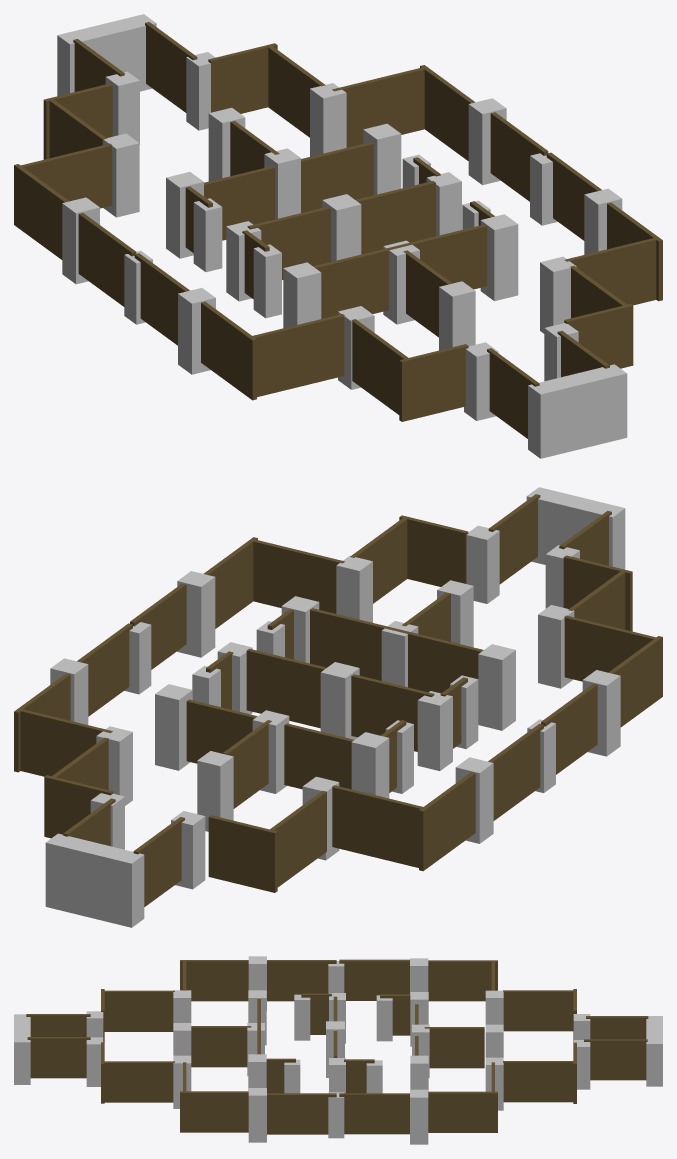
The model's file is levelcollisions.obj.
3 renders of one model, top to bottom at view 1: azimuth 30°, elevation 25°; view 2: azimuth 150°, elevation 25°; view 3: azimuth 270°, elevation 25°, orthographic. The views are drawn at different scales.
Parts seen in each view (by area): view 1: Cube.027_Cube.025, Cube.004_Cube.007, Cube.003_Cube.006, Cube.023_Cube.026, Cube.064_Cube.073, Cube.002_Cube.041, Cube.021_Cube.062, Cube.053_Cube.056, Cube.065_Cube.074, Cube.063_Cube.072, Cube.001_Cube.016, Cube.058_Cube.067 (+48 smaller); view 2: Cube.004_Cube.007, Cube.053_Cube.056, Cube.003_Cube.006, Cube.023_Cube.026, Cube.001_Cube.016, Cube.065_Cube.074, Cube.056_Cube.065, Cube.027_Cube.025, Cube.002_Cube.041, Cube.006_Cube.060, Cube.064_Cube.073, Cube.024_Cube.063 (+50 smaller); view 3: Cube.059_Cube.068, Cube.025_Cube.064, Cube.057_Cube.066, Cube.020_Cube.061, Cube.005_Cube.059, Cube.062_Cube.071, Cube.019_Cube.022, Cube.006_Cube.060, Cube.063_Cube.072, Cube.008_Cube.011, Cube.018_Cube.021, Cube.011_Cube.014 (+41 smaller).
Part boxes in pixels (x1,y1,x2,y2): Cube.027_Cube.025: [528, 364, 627, 458]; Cube.004_Cube.007: [247, 181, 435, 279]; Cube.003_Cube.006: [313, 224, 487, 318]; Cube.023_Cube.026: [204, 142, 373, 240]; Cube.064_Cube.073: [250, 314, 344, 396]; Cube.002_Cube.041: [332, 67, 426, 147]; Cube.021_Cube.062: [399, 344, 468, 421]; Cube.053_Cube.056: [57, 14, 156, 96]; Cube.065_Cube.074: [564, 237, 659, 305]; Cube.063_Cube.072: [201, 301, 256, 400]; Cube.001_Cube.016: [20, 143, 112, 208]; Cube.058_Cube.067: [208, 43, 277, 113]; Cube.004_Cube.007: [246, 648, 434, 751]; Cube.053_Cube.056: [45, 833, 144, 927]; Cube.003_Cube.006: [310, 608, 483, 693]; Cube.023_Cube.026: [186, 699, 354, 789]; Cube.001_Cube.016: [332, 785, 425, 867]; Cube.065_Cube.074: [250, 539, 344, 613]; Cube.056_Cube.065: [208, 815, 277, 892]; Cube.027_Cube.025: [526, 487, 625, 569]; Cube.002_Cube.041: [18, 709, 112, 776]; Cube.006_Cube.060: [419, 772, 475, 871]; Cube.064_Cube.073: [564, 615, 658, 681]; Cube.024_Cube.063: [399, 515, 468, 586]; Cube.059_Cube.068: [503, 1061, 575, 1102]; Cube.025_Cube.064: [503, 990, 574, 1031]; Cube.057_Cube.066: [102, 1061, 174, 1102]; Cube.020_Cube.061: [103, 990, 174, 1031]; Cube.005_Cube.059: [428, 1091, 497, 1132]; Cube.062_Cube.071: [180, 1091, 248, 1132]; Cube.019_Cube.022: [339, 1093, 409, 1134]; Cube.006_Cube.060: [428, 960, 497, 1001]; Cube.063_Cube.072: [180, 960, 248, 1001]; Cube.008_Cube.011: [267, 1093, 336, 1134]; Cube.018_Cube.021: [339, 959, 409, 1000]; Cube.011_Cube.014: [27, 1037, 90, 1078].
Bounding box in the file's own units: 42.94 × 6.86 × 83.39.
